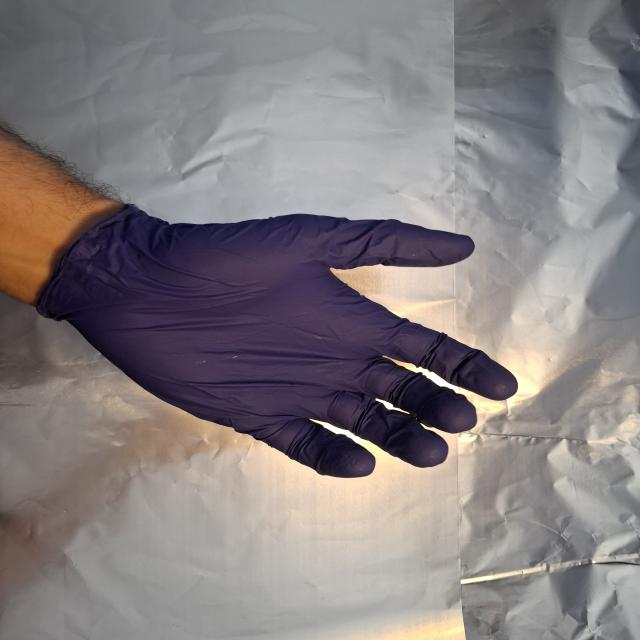glove_on: (41, 197, 523, 481)
